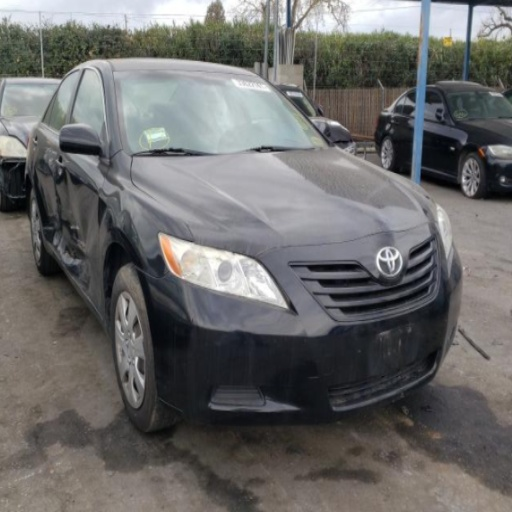dent: (57, 169, 98, 291), (31, 148, 61, 252), (100, 195, 146, 261)
scratch: (57, 238, 83, 265), (42, 147, 57, 177), (68, 167, 89, 184), (74, 274, 86, 289), (131, 223, 137, 243), (77, 240, 85, 253), (52, 236, 58, 246), (70, 224, 80, 230), (102, 192, 108, 199), (48, 227, 55, 229), (114, 197, 117, 199)
